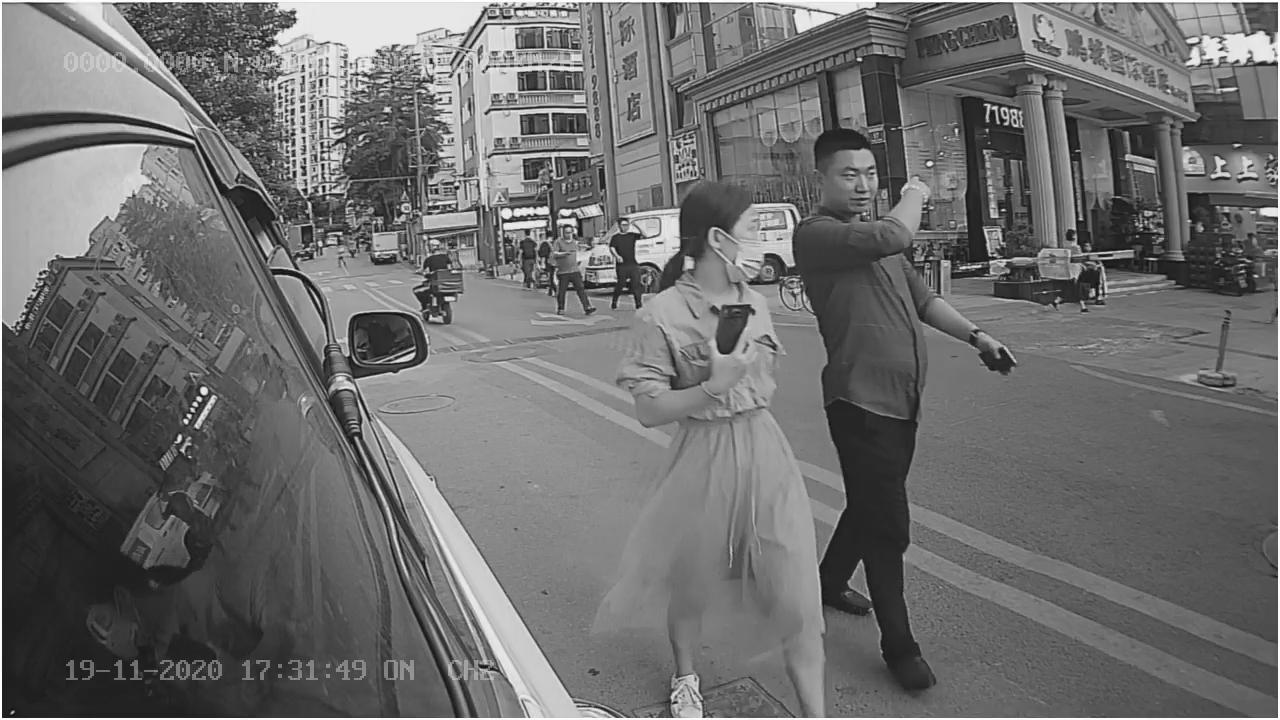person: (615, 177, 806, 529), (796, 138, 977, 428)
